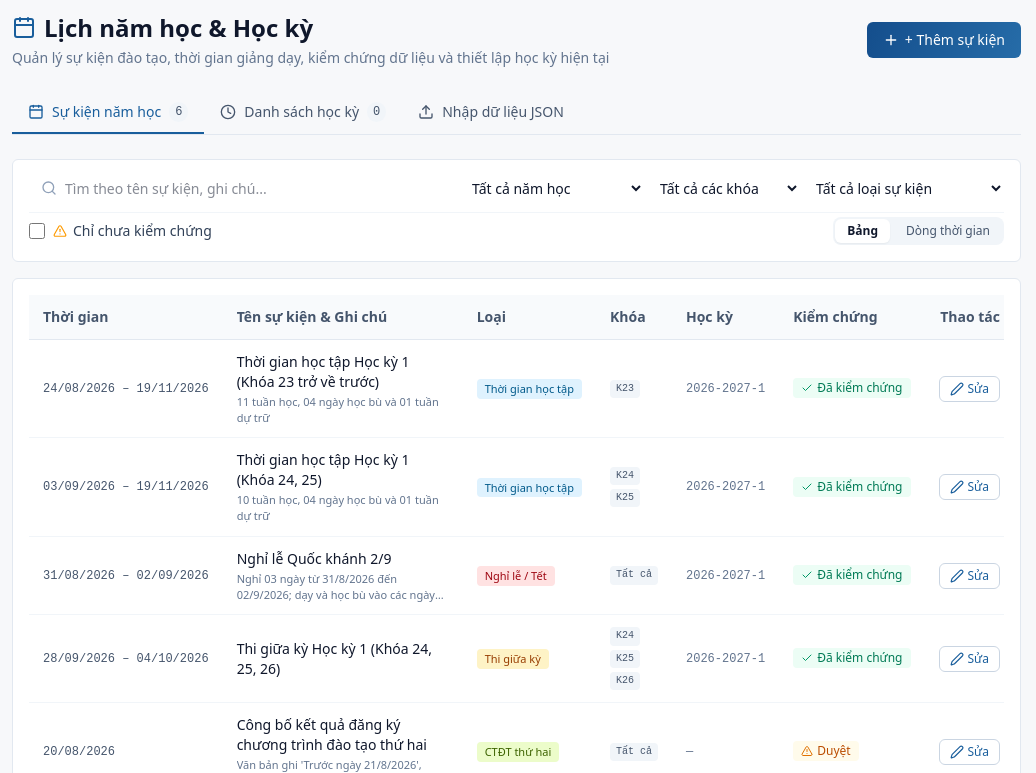
Test case: Brief A5: Quản trị Lịch năm học & Học kỳ (/admin/calendar) › 1. Tab Sự kiện năm học (Events Tab) › chuyển sang chế độ xem Timeline: hiển thị các nhóm theo tháng
Expected: the text "Thời gian học tập Học kỳ 1 (Khóa 23 trở về trước)" is shown, [237,352,409,391]
Bấm nút xem Timeline
What coordinates should you click on to do the following:
click the button "Dòng thời gian"
I would click on:
 (948, 231)
Its box is [894,219,1002,243].
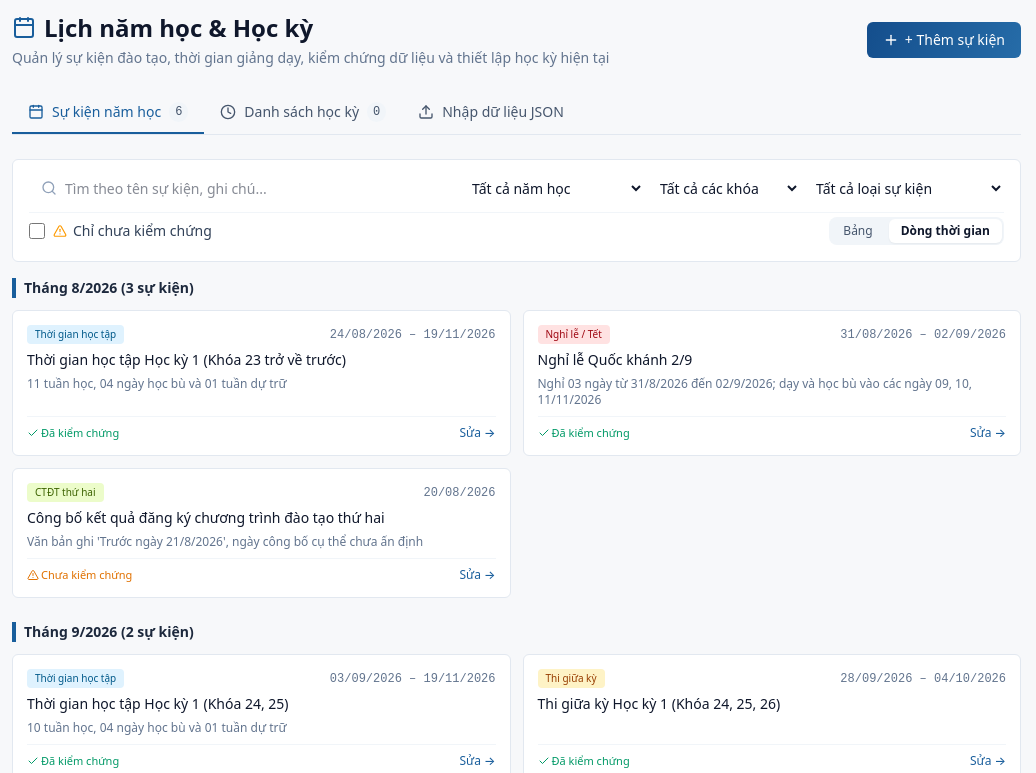
Now the heading "Tháng 8/2026 (3 sự kiện)" is shown, box [12,278,1021,298]
Now the heading "Tháng 9/2026 (2 sự kiện)" is shown, box [12,622,1021,642]
